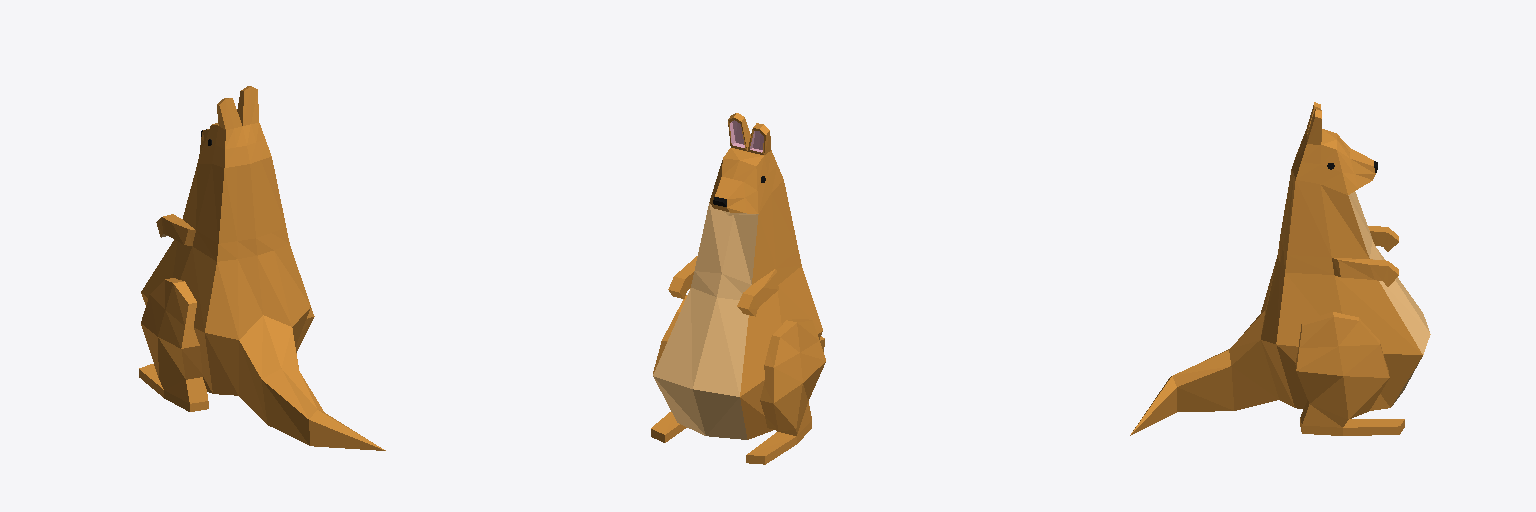
Rendered from Kangaroo_01.obj.
3 renders of one model, left to right at view 1: azimuth 30°, elevation 25°; view 2: azimuth 150°, elevation 25°; view 3: azimuth 270°, elevation 25°, orthographic.
Parts seen in each view (by area): view 1: Cube.027_Cube.025, Kangaroo_Cube.000; view 2: Cube.027_Cube.025, Kangaroo_Cube.000; view 3: Cube.027_Cube.025, Kangaroo_Cube.000.
Boxes of the visible parts, x1,y1,x2,y2 form: Cube.027_Cube.025: [141, 86, 385, 450]; Kangaroo_Cube.000: [139, 139, 314, 411]; Cube.027_Cube.025: [653, 113, 824, 439]; Kangaroo_Cube.000: [651, 176, 825, 464]; Cube.027_Cube.025: [1130, 102, 1430, 435]; Kangaroo_Cube.000: [1295, 163, 1404, 435].
Size of the model in its own units: 4.58 by 10.08 by 8.96.